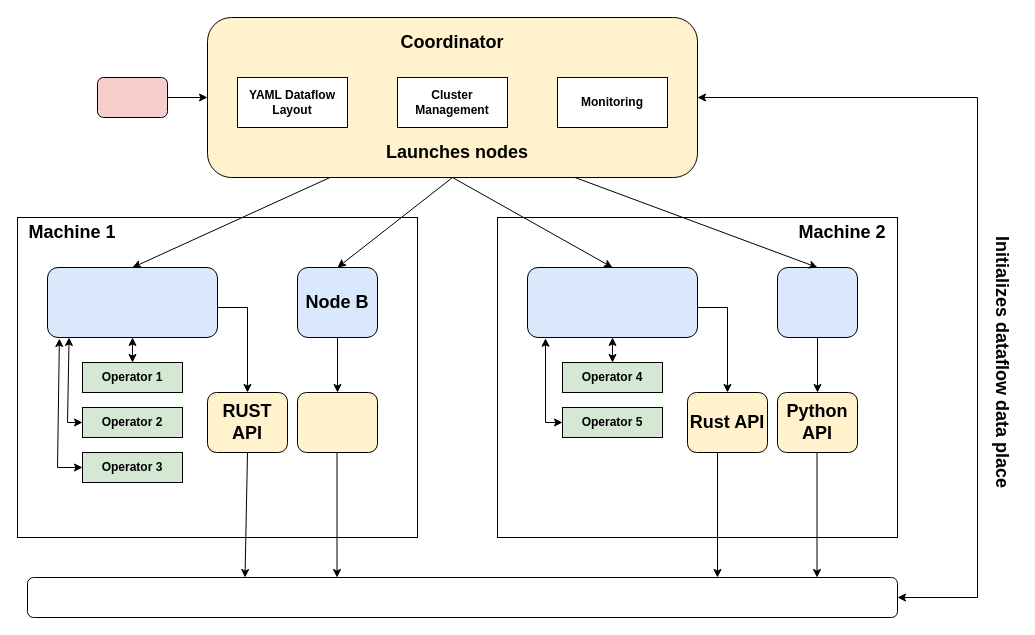
This 1035x635 diagram has some shape labels left out. Each missing label, with the centre of its shape:
C API: point 337,422
CLI: point 132,97
Daemon (Communication Layer, Data plane): point 462,597
Node A (Dora Runtime): point 132,302
Node C (Dora Runtime): point 612,302
Node D: point 817,302
